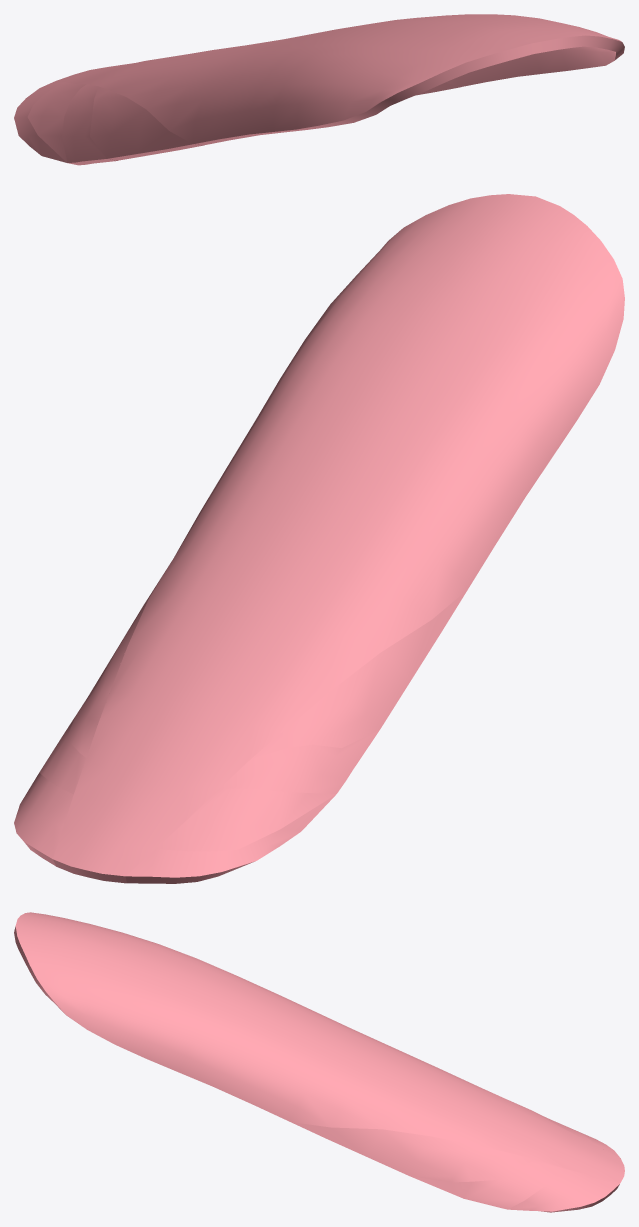
3 renders of one model, top to bottom at view 1: azimuth 30°, elevation 25°; view 2: azimuth 150°, elevation 25°; view 3: azimuth 270°, elevation 25°, orthographic. The views are drawn at different scales.
Parts seen in each view (by area): view 1: OBJ_29, OBJ_27, OBJ_26, OBJ_22, OBJ_24; view 2: OBJ_29, OBJ_27, OBJ_22, OBJ_26, OBJ_24, OBJ_23, OBJ_28, OBJ_25; view 3: OBJ_29, OBJ_28, OBJ_25, OBJ_23.
Boxes of the visible parts, bbox=[...] form: OBJ_29: bbox=[56, 14, 624, 145]; OBJ_27: bbox=[90, 86, 203, 160]; OBJ_26: bbox=[62, 84, 117, 165]; OBJ_22: bbox=[27, 82, 86, 162]; OBJ_24: bbox=[14, 81, 66, 162]; OBJ_29: bbox=[53, 194, 624, 883]; OBJ_27: bbox=[251, 589, 467, 758]; OBJ_22: bbox=[156, 788, 336, 851]; OBJ_26: bbox=[220, 730, 379, 793]; OBJ_24: bbox=[125, 795, 335, 883]; OBJ_23: bbox=[14, 772, 73, 866]; OBJ_28: bbox=[67, 563, 170, 757]; OBJ_25: bbox=[39, 716, 86, 794]; OBJ_29: bbox=[14, 912, 624, 1183]; OBJ_28: bbox=[291, 1122, 534, 1182]; OBJ_25: bbox=[409, 1159, 564, 1209]; OBJ_23: bbox=[508, 1169, 619, 1212].
Size of the model in its own units: 136 by 170 by 377.
